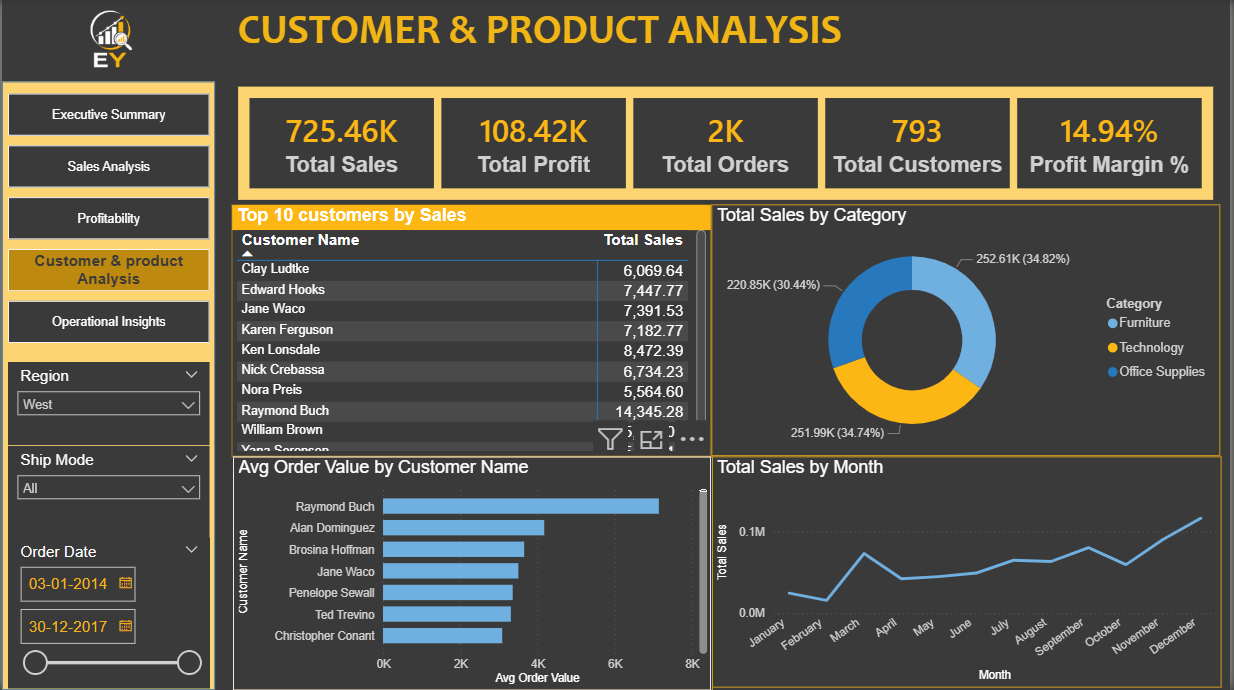

Layout of this report page (visuals, bound fields, positions):
{"tool":"powerbi","page":{"name":"Customer & product Analysis ","canvas":[1280,720],"ordinal":3},"visuals":[{"type":"textbox","box":[240,0,1030,98],"z":0},{"type":"shape","box":[0,86,222,634],"z":1000},{"type":"cardVisual","fields":{"Data":["Data.Total Sales","Data.Total Profit","Data.Total Orders","Customer.Total Customers","Data.Profit Margin %"]},"box":[240,86,1030,128],"z":2000},{"type":"image","box":[0,0,222,86],"z":3000},{"type":"lineChart","fields":{"Y":["Data.Total Sales"],"Category":["Data.Order Date.Variation.Date Hierarchy.Month"]},"box":[739.3,476.7,531.4,240.7],"z":4000},{"type":"pivotTable","title":"Top 10 customers by Sales","fields":{"Rows":["Customer.Customer Name"],"Values":["Data.Total Sales"]},"box":[239.3,214.3,500,262.5],"z":5000},{"type":"donutChart","fields":{"Category":["Product.Category"],"Y":["Data.Total Sales"]},"box":[740,214,530,262],"z":6000},{"type":"clusteredBarChart","fields":{"Y":["Data.Avg Order Value"],"Category":["Customer.Customer Name"]},"box":[240,476,500,244],"z":7000},{"type":"slicer","fields":{"Values":["Location.Region"]},"box":[6.7,378.3,210,86.7],"z":8000},{"type":"slicer","fields":{"Values":["ShipMode.Ship Mode"]},"box":[6.7,465,210,96.7],"z":9000},{"type":"slicer","fields":{"Values":["Data.Order Date"]},"box":[6.7,561.7,210,156.7],"z":10000},{"type":"pageNavigator","box":[6.7,98.3,210,261.7],"z":11000}]}

Visuals, with their boxes in screenshot pixels (x1, y1, x2, y2), scaled from the page's 1280x720 canvas onto the 1234x690 screenshot:
textbox: (231,0,1224,94)
shape: (0,82,214,689)
cardVisual - Data.Total Sales x Data.Total Profit: (231,82,1224,205)
image: (0,0,214,82)
lineChart - Data.Total Sales x Data.Order Date.Variation.Date Hierarchy.Month: (713,457,1225,688)
"Top 10 customers by Sales" pivotTable: (231,205,713,457)
donutChart - Product.Category x Data.Total Sales: (713,205,1224,456)
clusteredBarChart - Data.Avg Order Value x Customer.Customer Name: (231,456,713,689)
slicer - Location.Region: (6,363,209,446)
slicer - ShipMode.Ship Mode: (6,446,209,538)
slicer - Data.Order Date: (6,538,209,688)
pageNavigator: (6,94,209,345)
